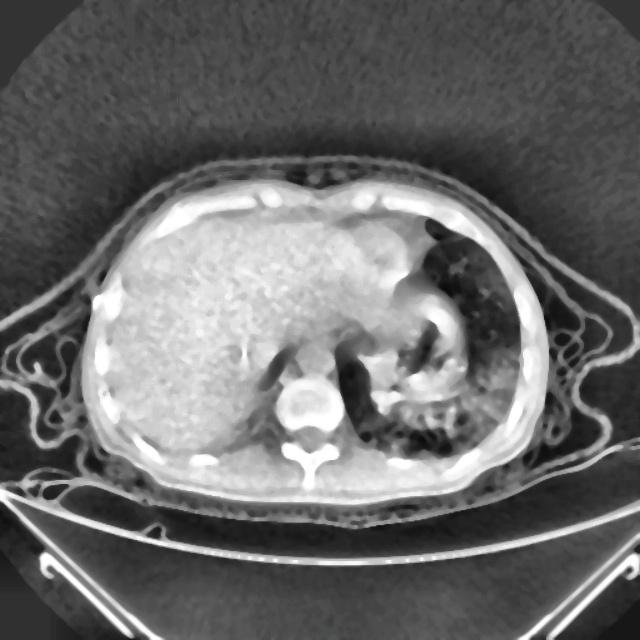covid: (79, 178, 550, 506)
